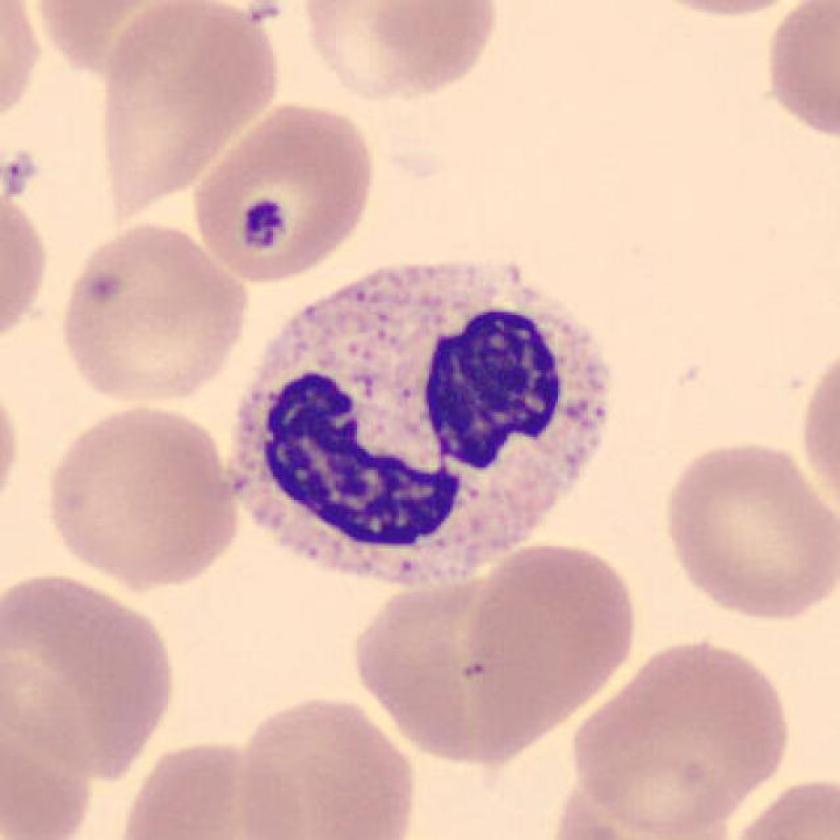neutrophil: (227, 260, 611, 579)
